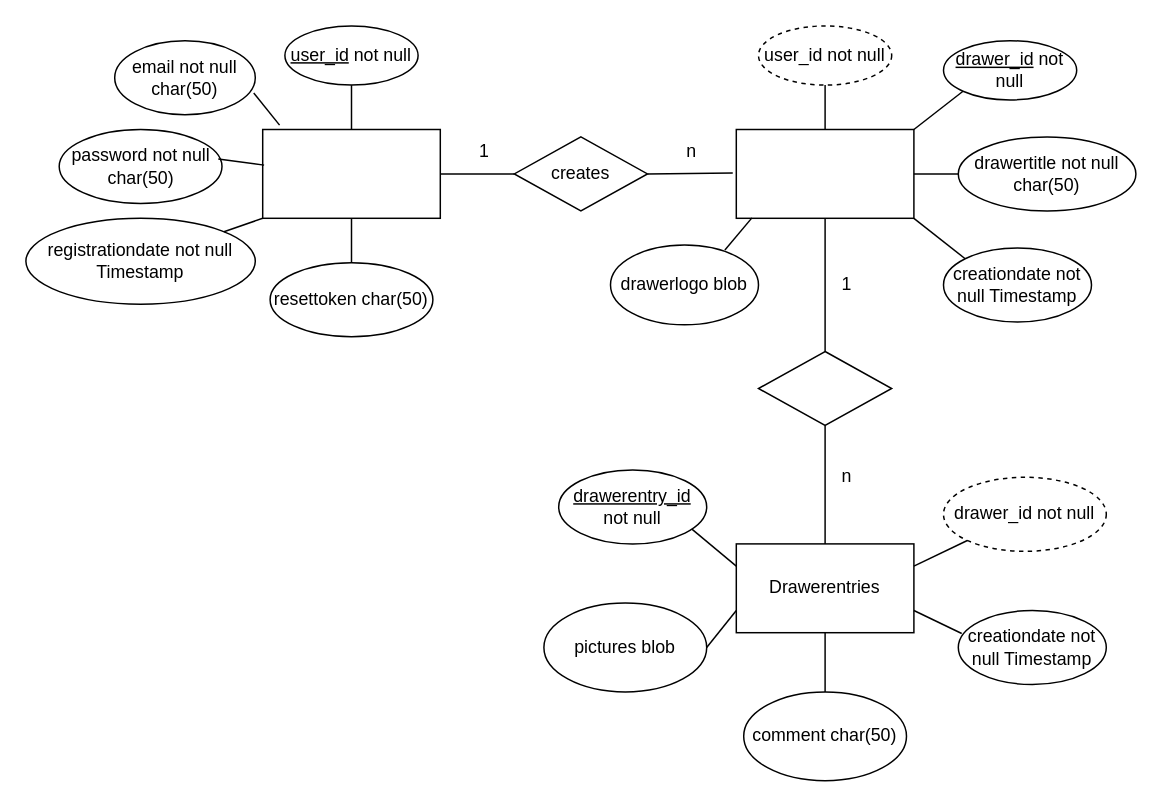
Image size: 1162x807. Some labels were removed from this diagram. The centre of each missing label's shape, as x and y in pixels:
contains: (x=824, y=388)
Drawer: (x=824, y=173)
User: (x=350, y=173)
